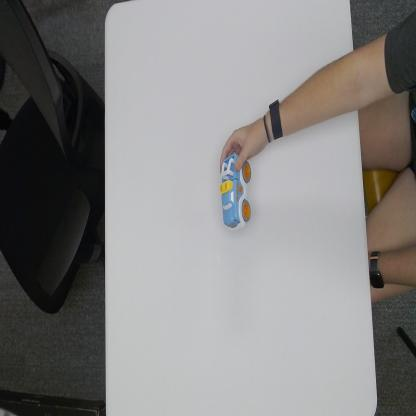Arm: (284, 58, 360, 132)
Car: (220, 151, 252, 230)
Hand: (219, 115, 268, 173)
